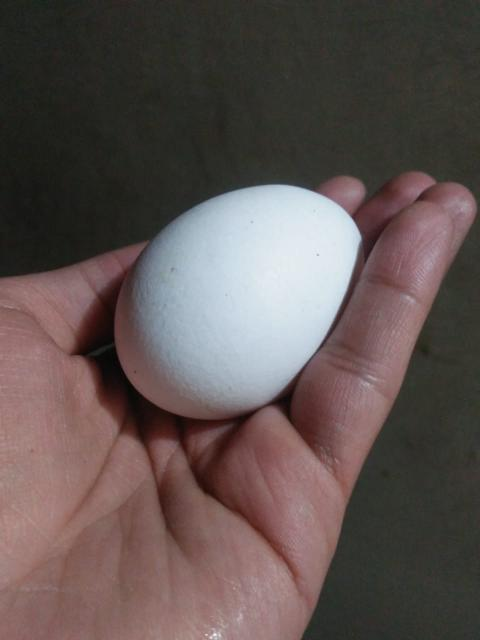Sano: (111, 185, 363, 419)
